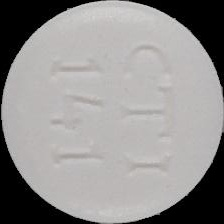63187-194: (0, 0, 224, 224)
